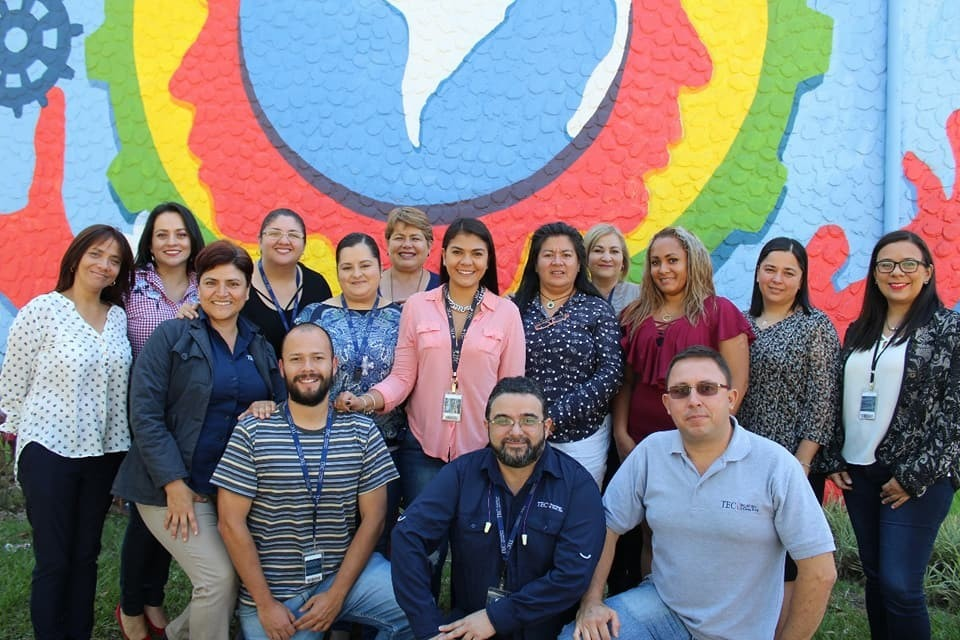person: (628, 339, 805, 577), (840, 211, 952, 434), (726, 224, 856, 401), (452, 373, 598, 527), (244, 334, 370, 496), (422, 234, 512, 390), (631, 225, 724, 370), (171, 246, 259, 395), (520, 222, 596, 387), (59, 238, 148, 375)
